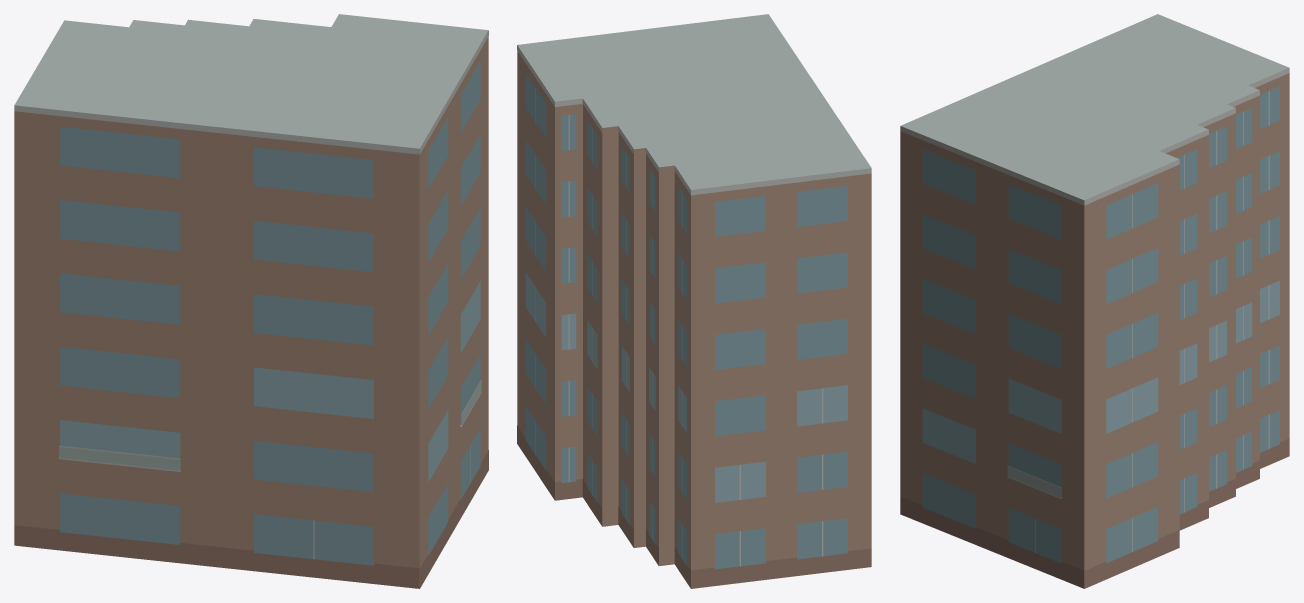
File: survey-upis-32755661.glb
3 views of the same model, side by side, from view 1: azimuth 30°, elevation 25°; view 2: azimuth 150°, elevation 25°; view 3: azimuth 270°, elevation 25° (orthographic). The views are drawn at different scales.
Parts seen in each view (by area): view 1: survey-upis-32755661.tmp; view 2: survey-upis-32755661.tmp; view 3: survey-upis-32755661.tmp.
Boxes of the visible parts, x1,y1,x2,y2 form: survey-upis-32755661.tmp: [14, 14, 488, 588]; survey-upis-32755661.tmp: [517, 14, 871, 588]; survey-upis-32755661.tmp: [900, 14, 1289, 588].
Bounding box in the file's own units: 18.84 × 18.3 × 16.62.
